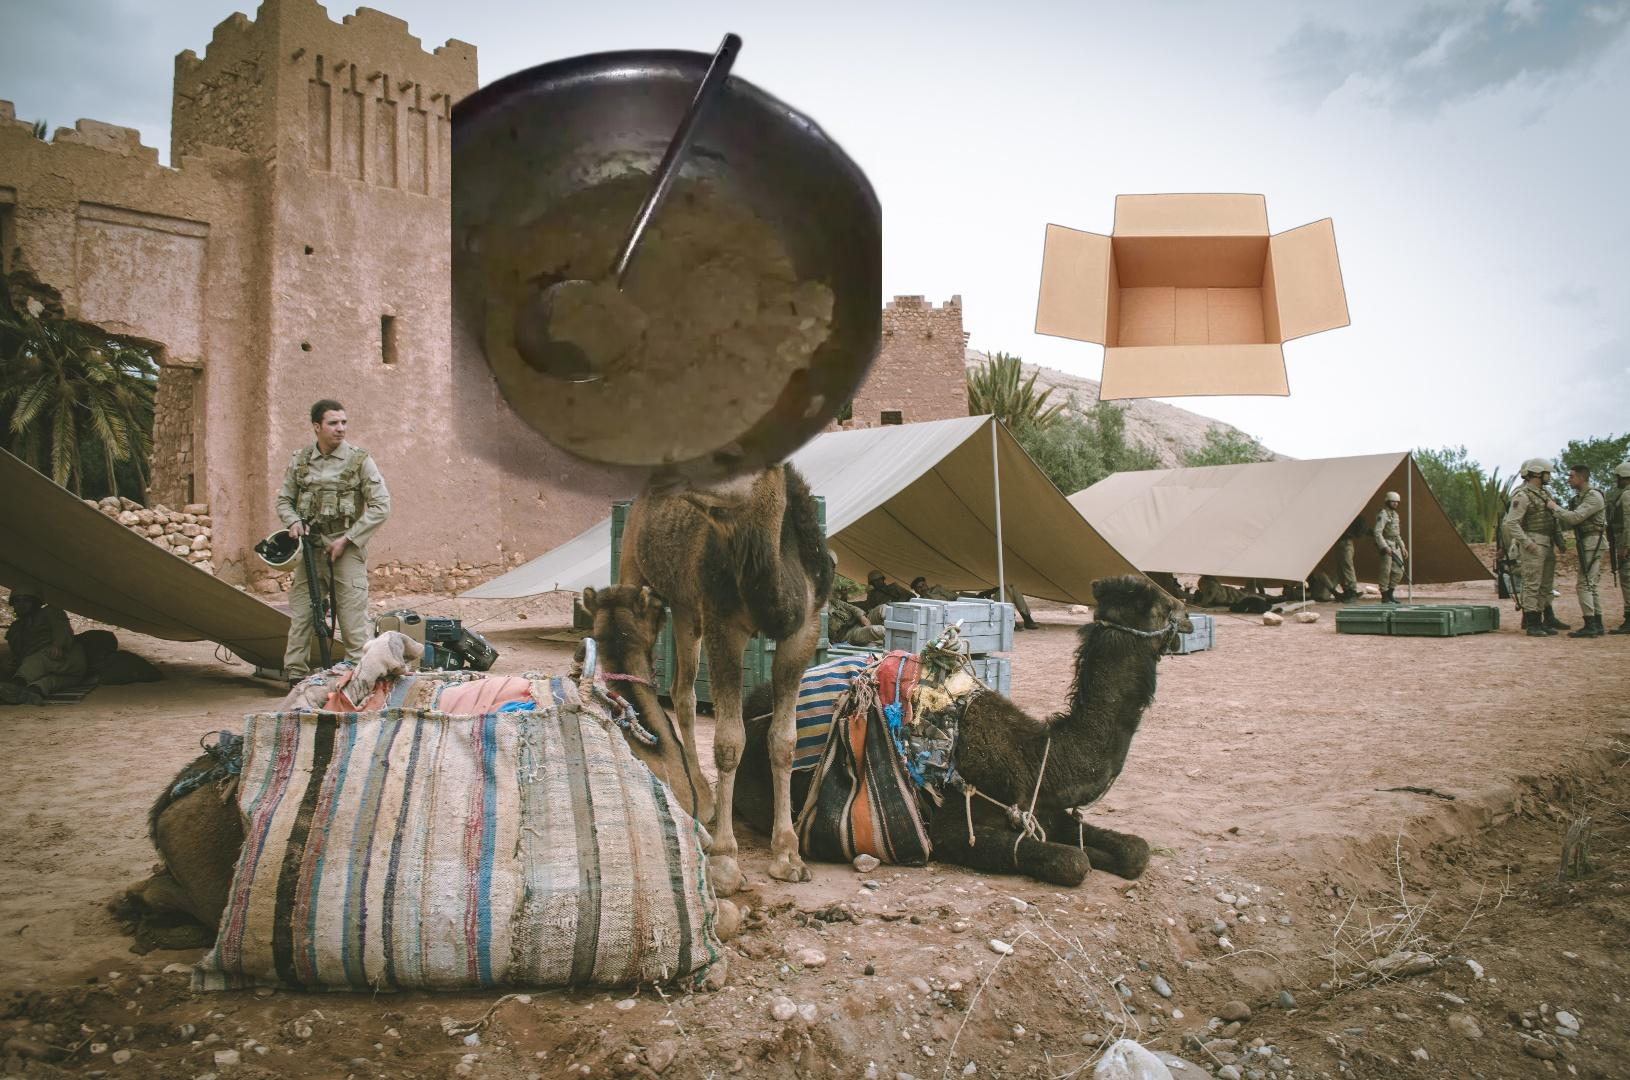biological: (451, 19, 882, 552)
plastic-bottles: (698, 1072, 802, 1080)
trashbox-cardboard: (1032, 192, 1354, 403)
